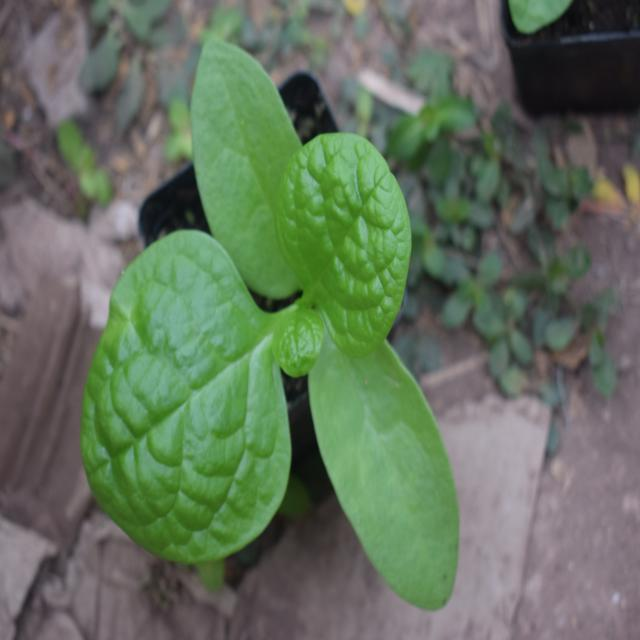Ceylon spinach: (78, 79, 475, 594)
